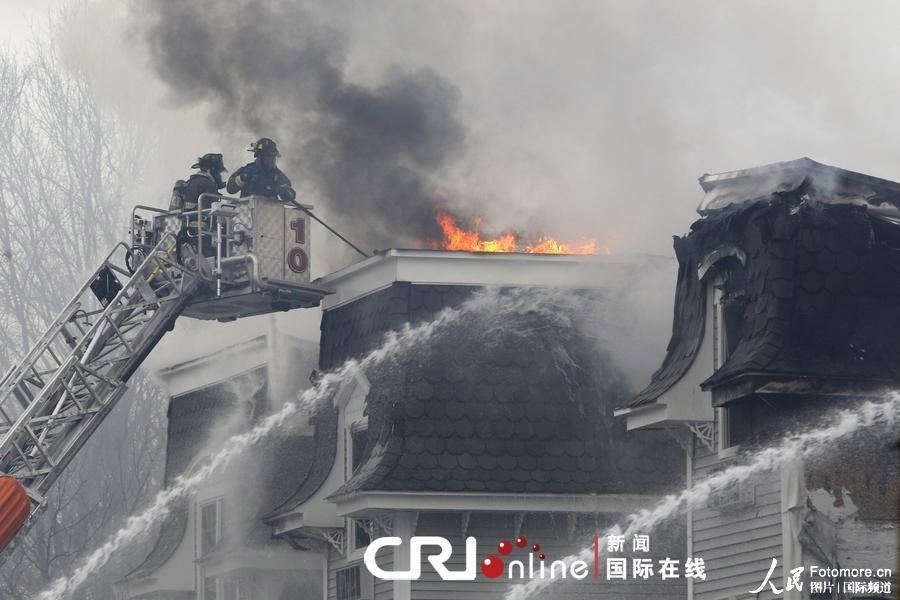fire: (424, 214, 613, 256)
